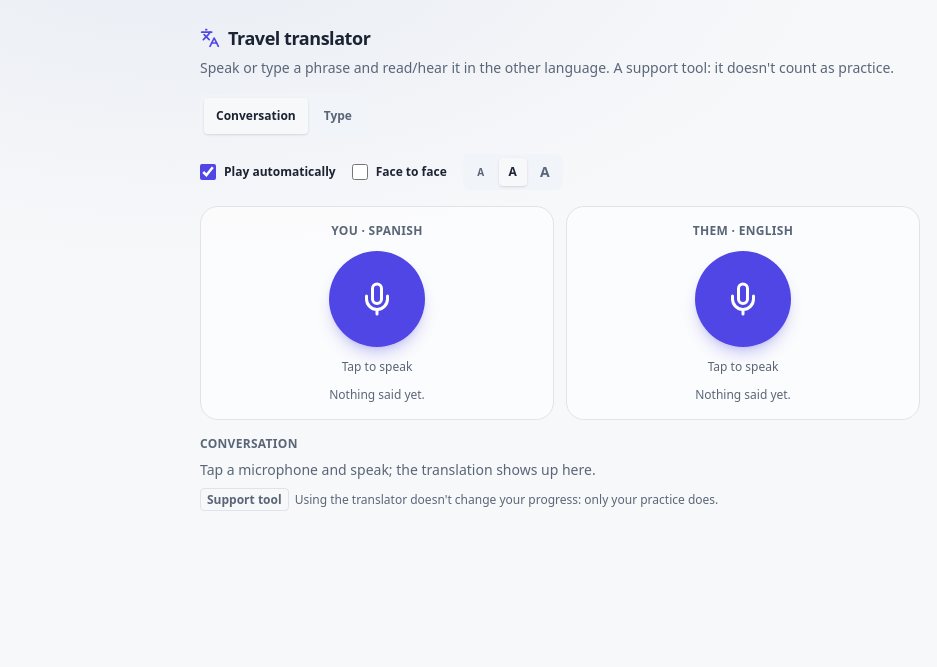
Test: TranslatorScreen · V3.39 traductor de viaje › el botón ⇄ intercambia sentido y textos
This screenshot has width=937, height=667.
Step 1. Click the button "Type" → click(338, 116), box [312,98,364,134]
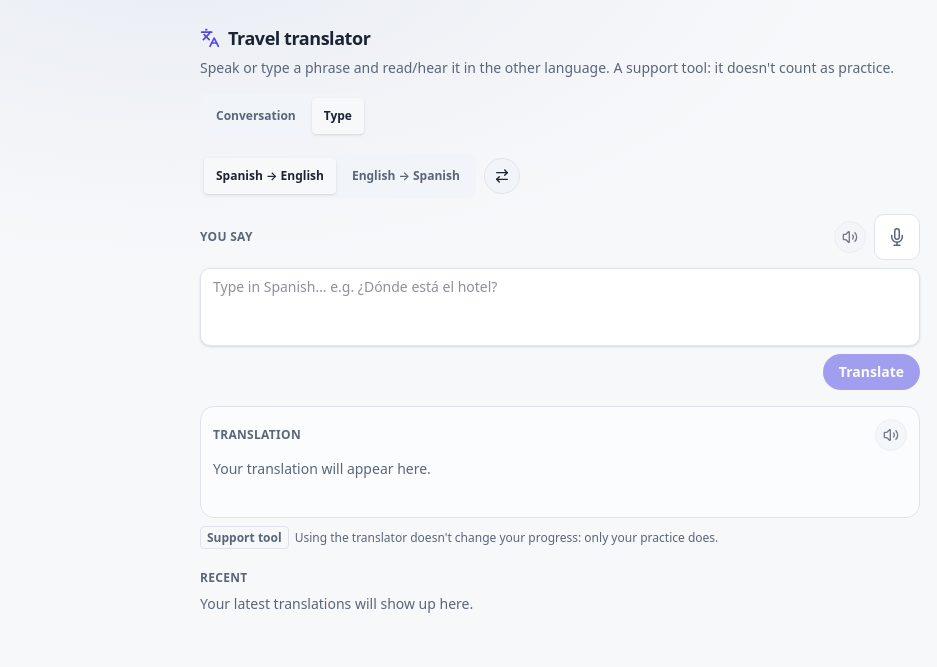
Step 2. Type "¿Dónde está el hotel?" into the text box named "Phrase to translate" → (560, 307), box [200,268,920,346]
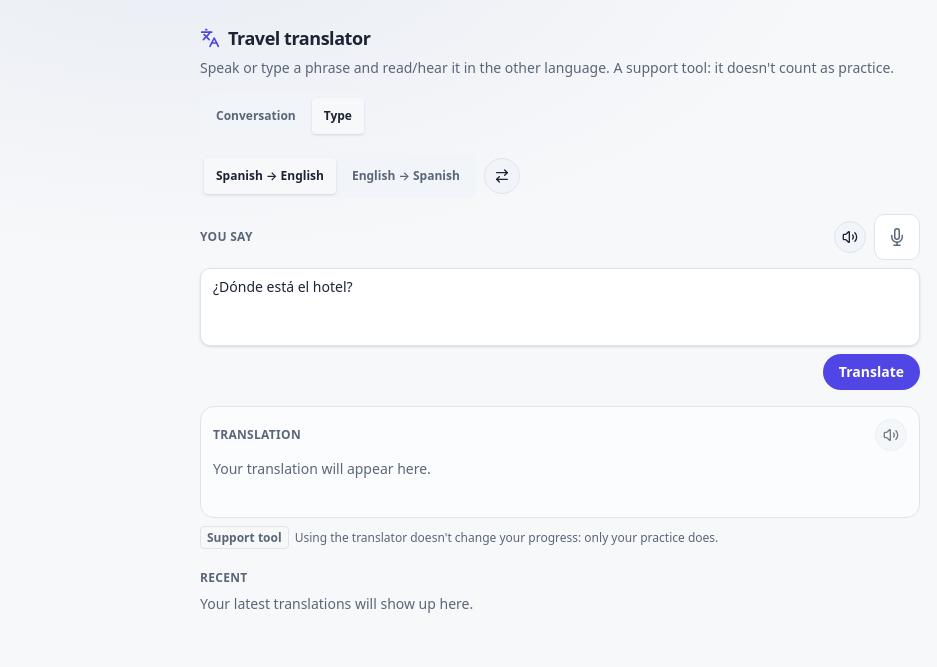
Step 3. Click the button "Translate" → click(871, 372), box [823,354,920,390]
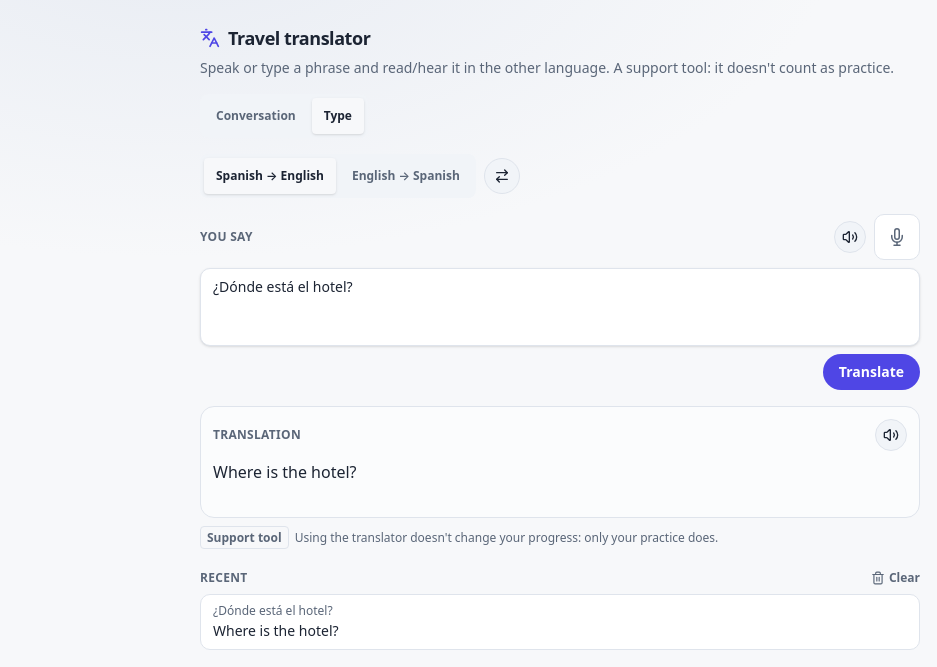
Result: the text "Where is the hotel?" below "Translation" is shown at [213,461,356,483]
Step 4. Click the button named "Swap direction" → click(502, 176), box [484,158,520,194]
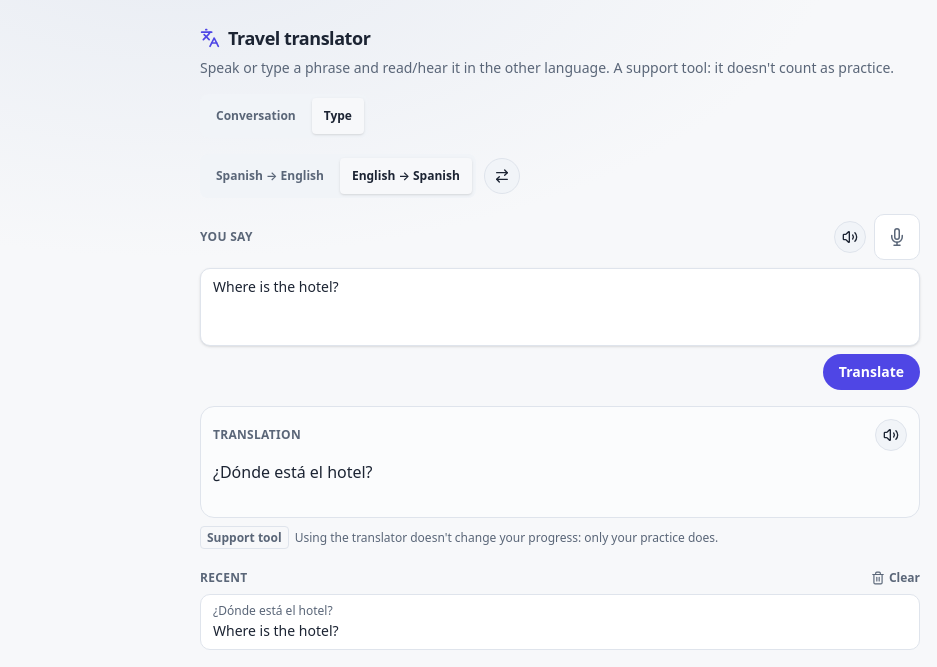
Result: the text box named "Phrase to translate" holds "Where is the hotel?" at [200,268,920,346]
Result: the text "¿Dónde está el hotel?" below "Translation" is shown at [213,461,373,483]
